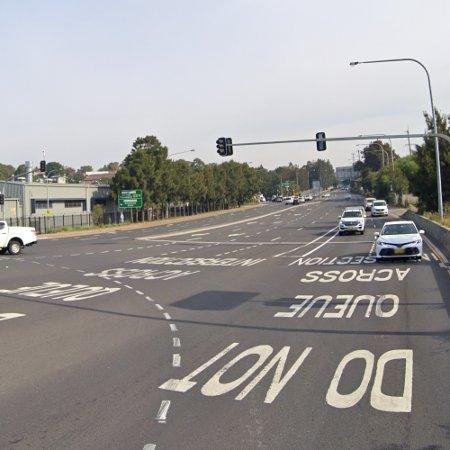traffic lights: (217, 138, 232, 156)
